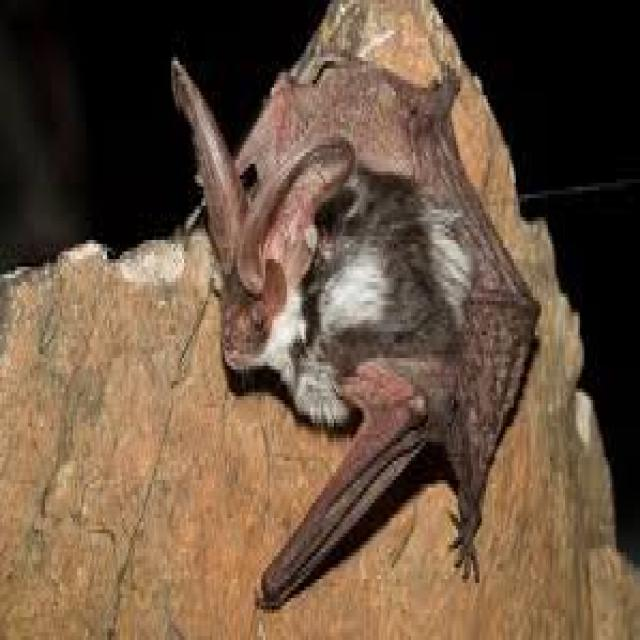Bat: (165, 29, 529, 577)
